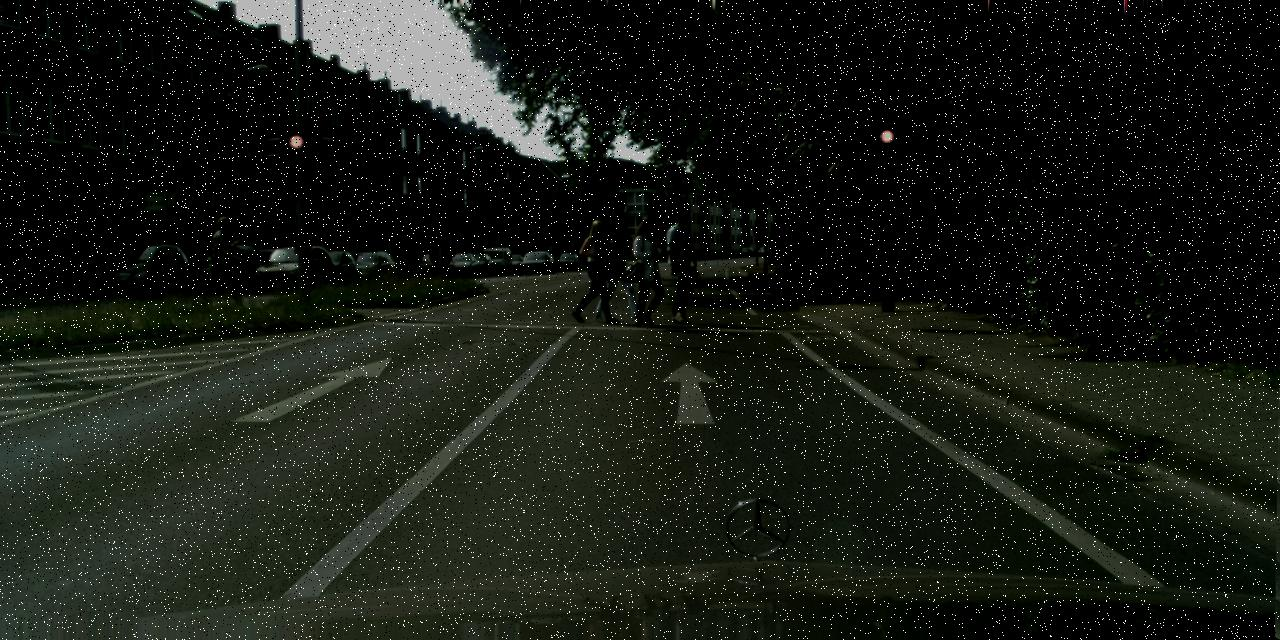ped: (657, 206, 703, 321), (626, 215, 670, 324), (575, 219, 616, 320), (204, 215, 244, 314), (601, 224, 641, 322)
